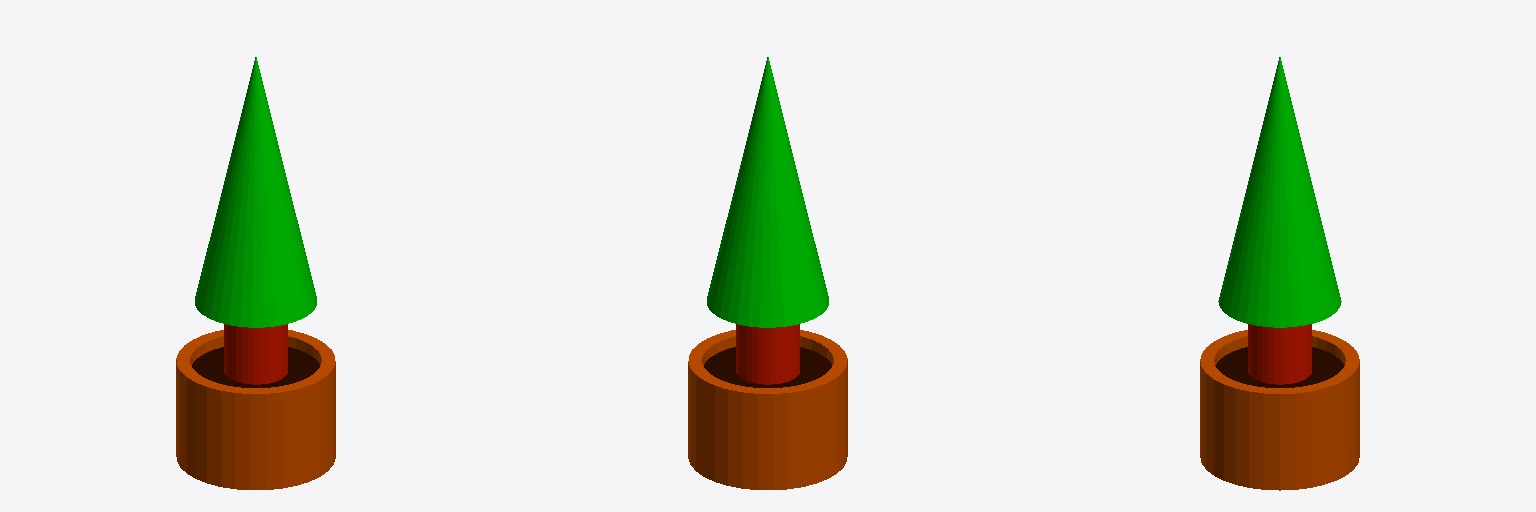
File: plant.obj
3 renders of one model, left to right at view 1: azimuth 30°, elevation 25°; view 2: azimuth 150°, elevation 25°; view 3: azimuth 270°, elevation 25°, orthographic.
Parts seen in each view (by area): view 1: Cylinder, Cone; view 2: Cylinder, Cone; view 3: Cylinder, Cone.
Boxes of the visible parts, x1=… form: Cylinder: x1=176, y1=324, x2=335, y2=489; Cone: x1=195, y1=57, x2=316, y2=327; Cylinder: x1=688, y1=324, x2=847, y2=489; Cone: x1=707, y1=57, x2=828, y2=327; Cylinder: x1=1200, y1=324, x2=1359, y2=490; Cone: x1=1218, y1=57, x2=1341, y2=327.
Bounding box in the file's own units: 0.4823 × 1.34 × 0.4823.